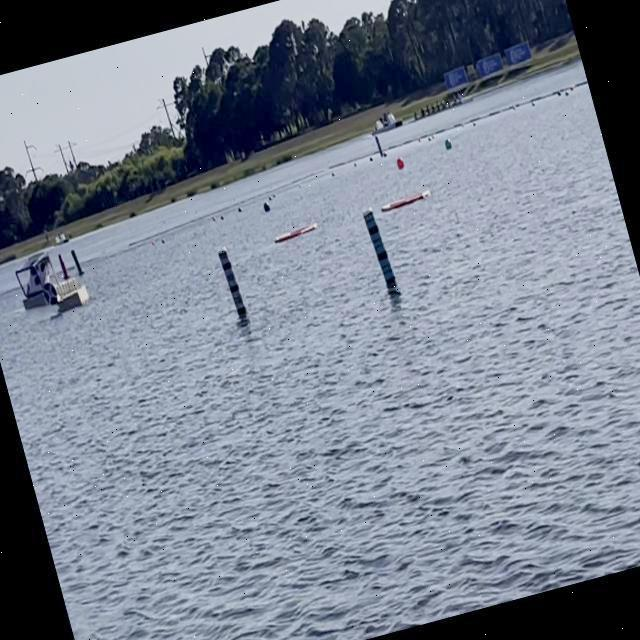buoy: (394, 156, 406, 170), (443, 137, 453, 150), (261, 199, 271, 212)
